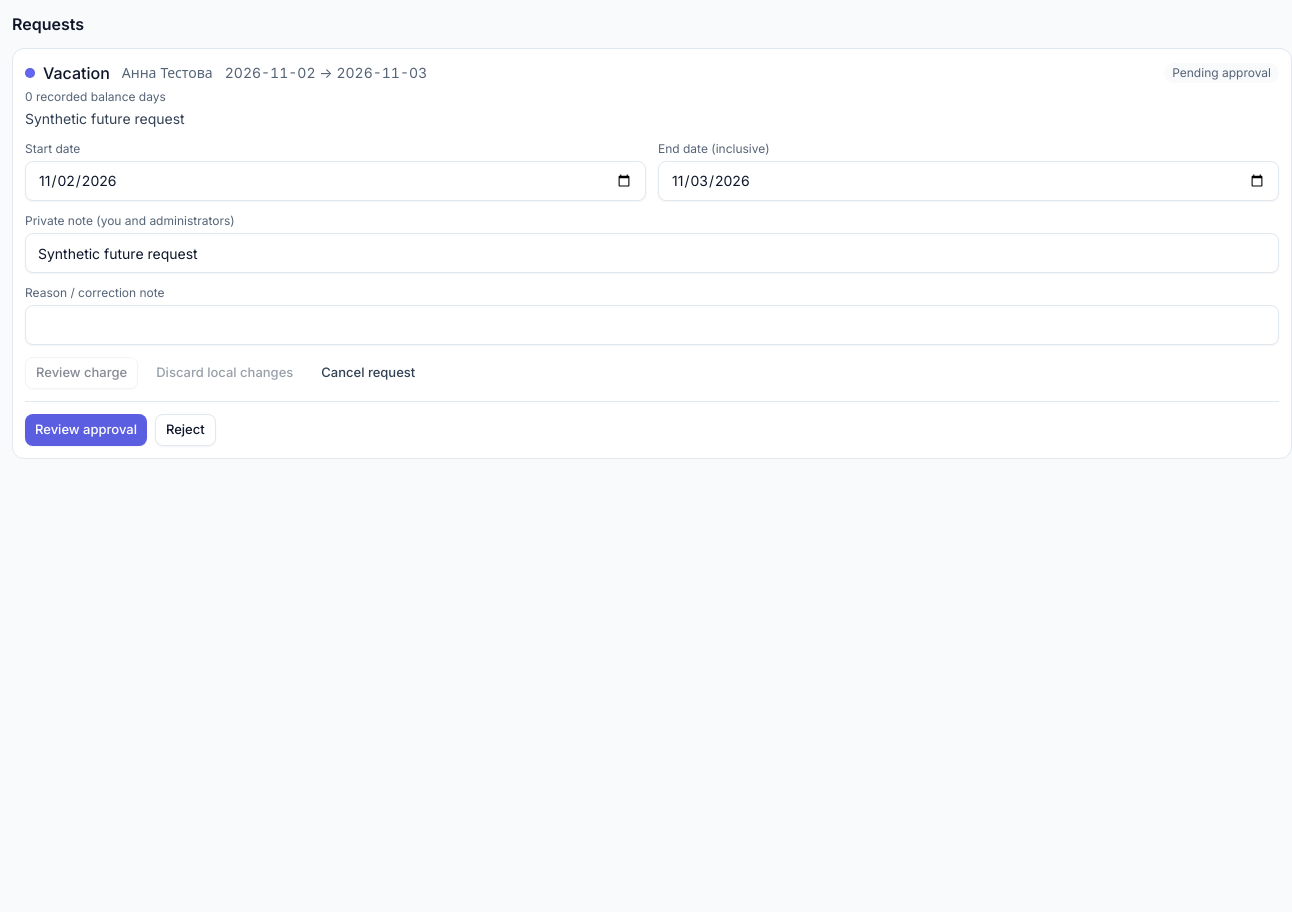
future administrative conflicts stay advisory without an invented reason › requires and focuses a reason when moving an originally future request into history
Type "2026-10-01" into the date field labelled "Start date".
click(336, 181); type("2026-10-01")  # box [25,161,646,201]
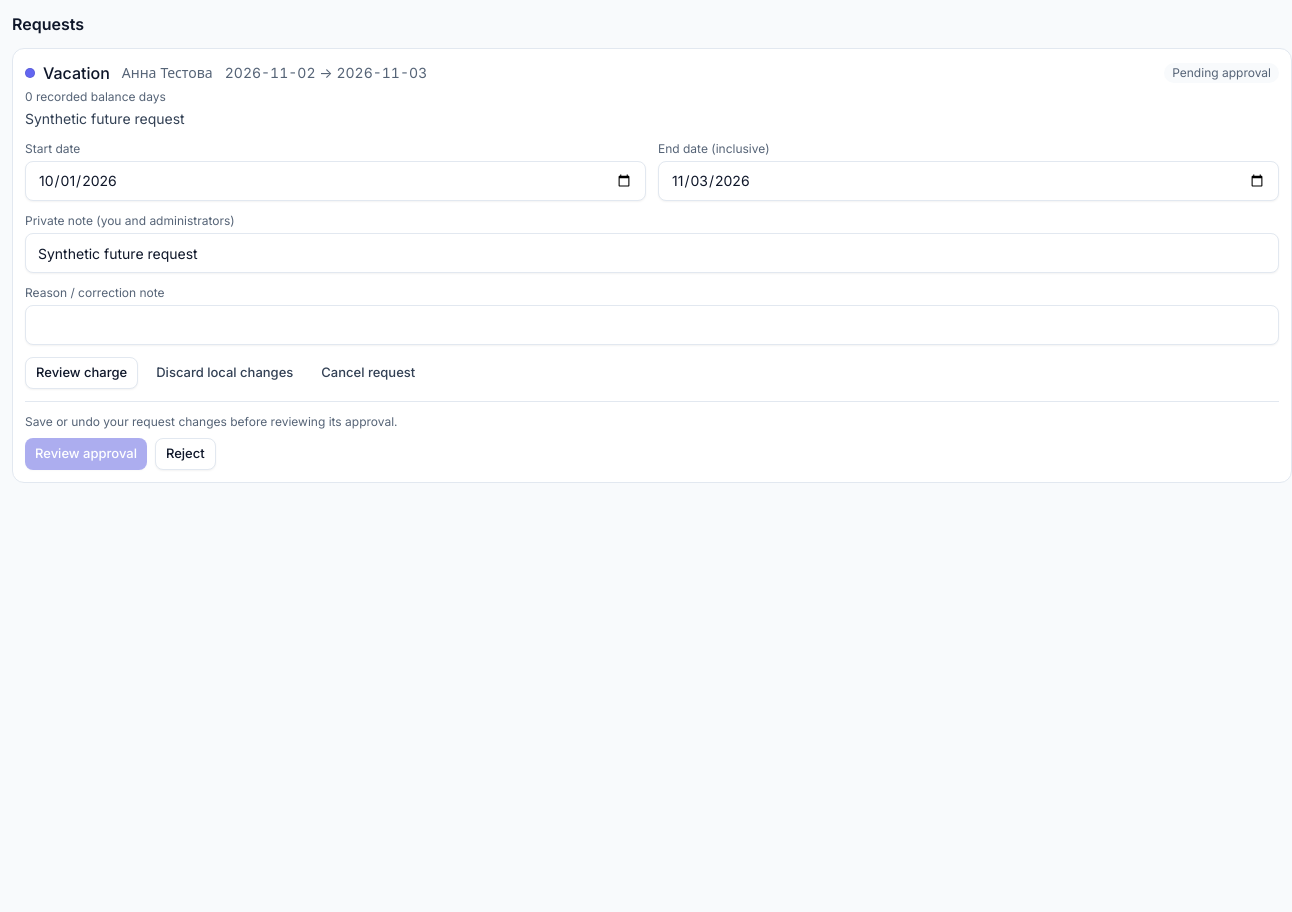
Click the button "Review charge".
click(82, 373)  # box [25,357,138,389]
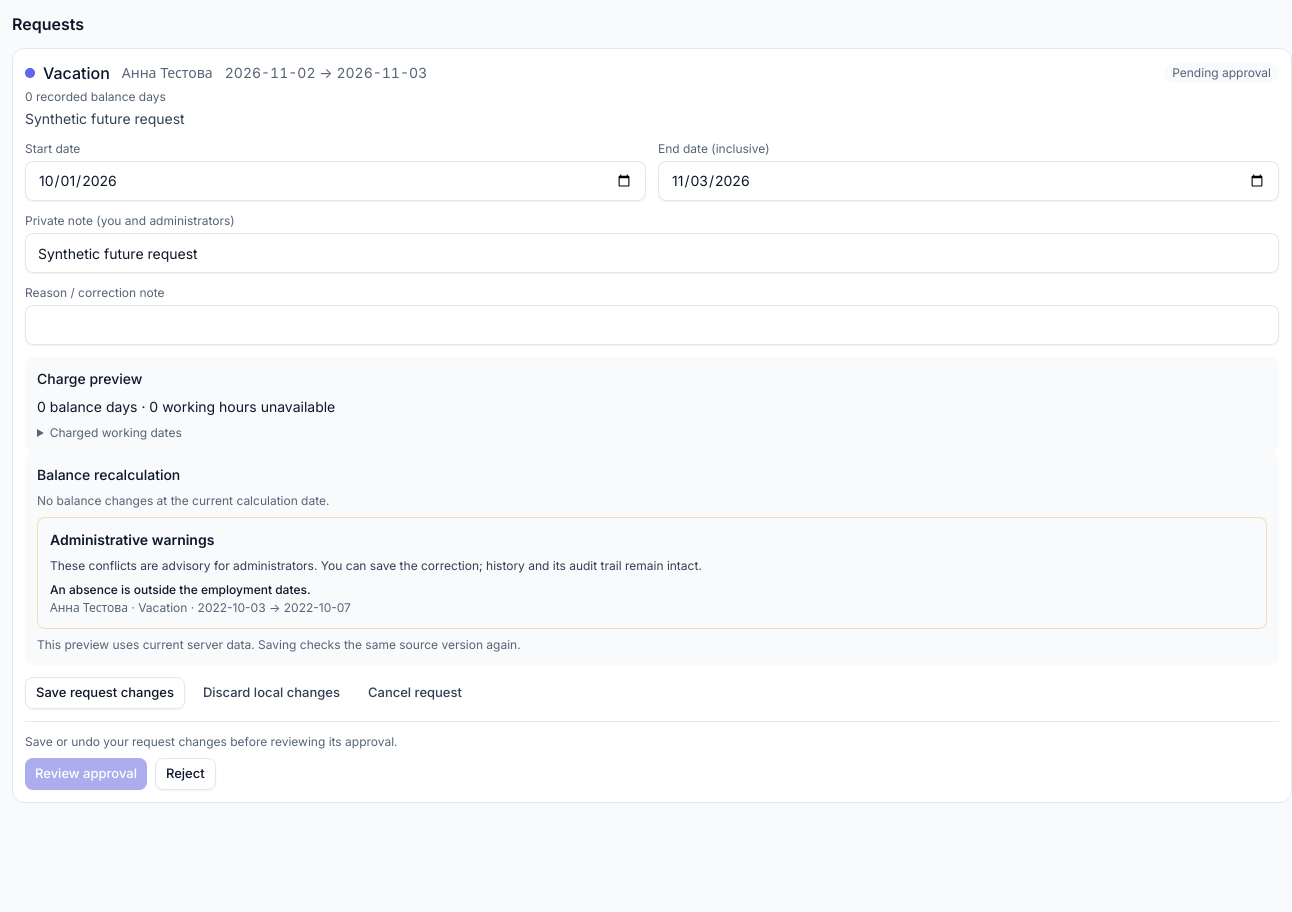
Click the button "Save request changes".
click(105, 693)  # box [25,677,185,709]
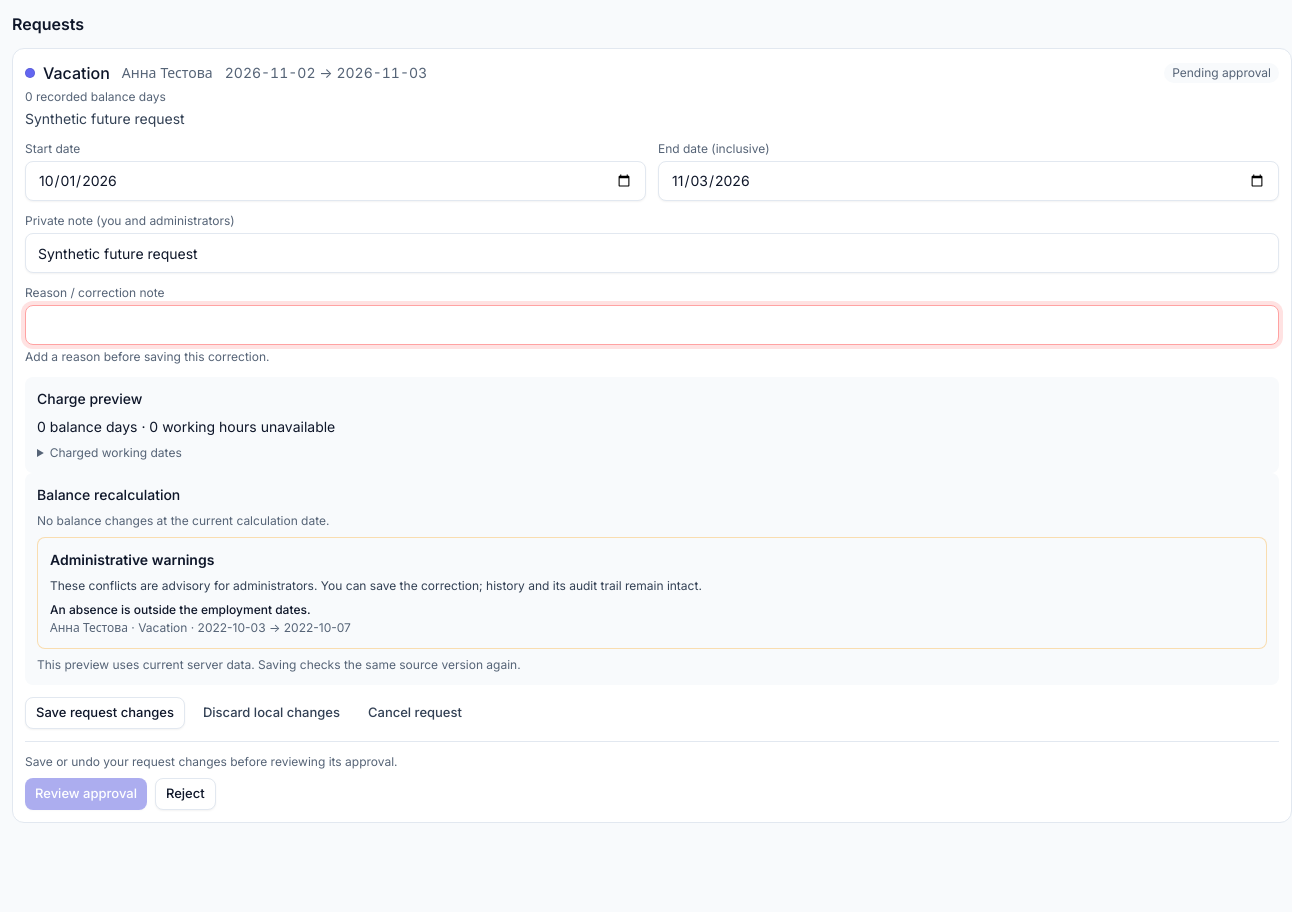
Now the message "Add a reason before saving this correction." is shown, box [25,349,270,364]
